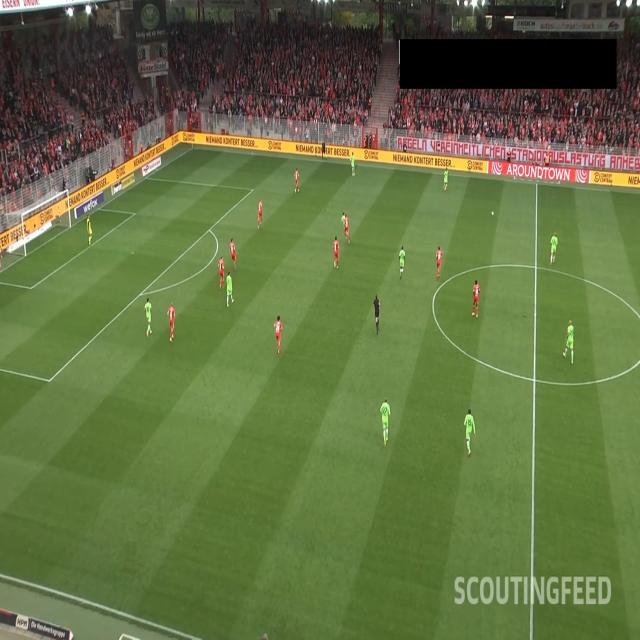ball: (490, 210, 494, 217)
